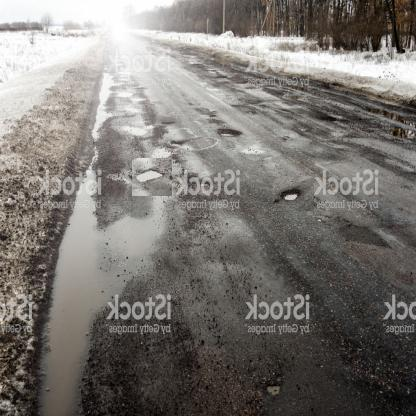pothole_water: (131, 158, 172, 197), (272, 176, 314, 212)
